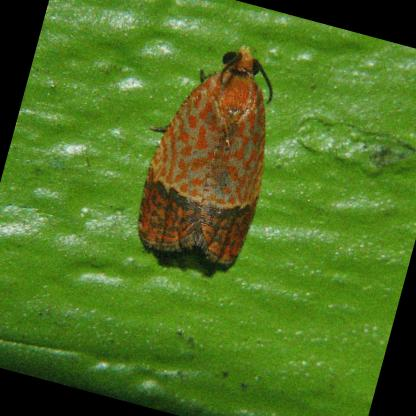Leaf Webber: (132, 48, 274, 270)
